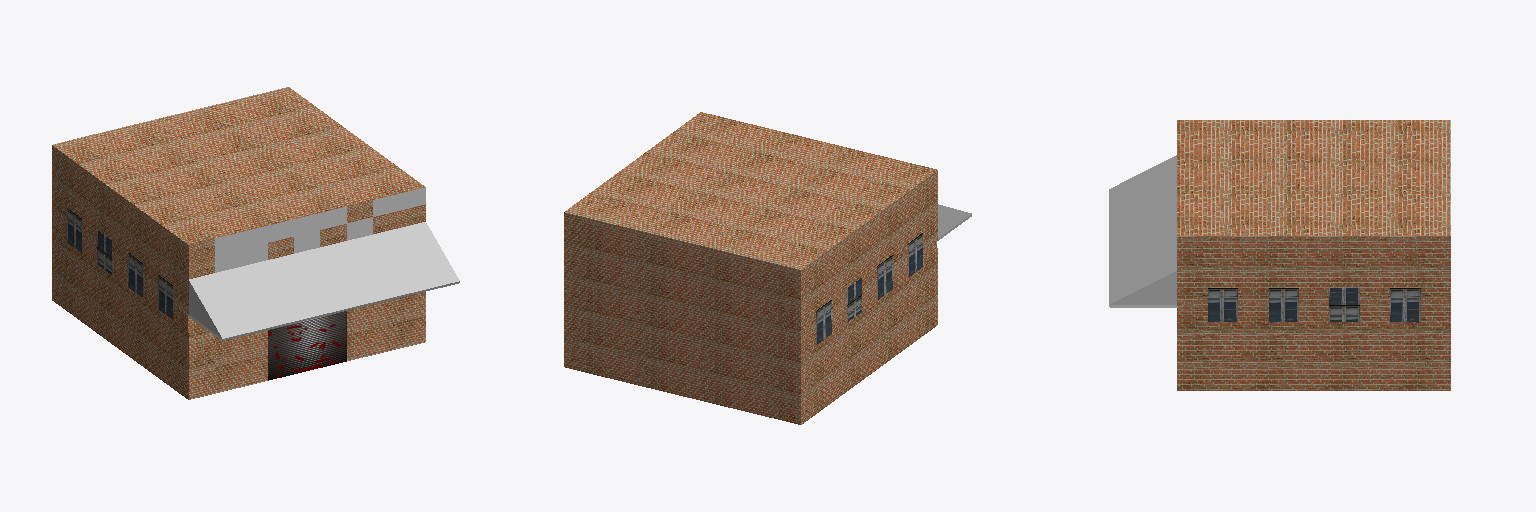
3 views of the same model, side by side, from view 1: azimuth 30°, elevation 25°; view 2: azimuth 150°, elevation 25°; view 3: azimuth 270°, elevation 25° (orthographic).
Visible parts, largest first — view 1: Cube; view 2: Cube; view 3: Cube.
Part boxes in pixels (bbox=[...]): Cube: bbox=[52, 87, 459, 399]; Cube: bbox=[564, 112, 971, 424]; Cube: bbox=[1109, 120, 1450, 390].
Size of the model in its own units: 16.02 by 10 by 20.
5 materials, 3 textured.